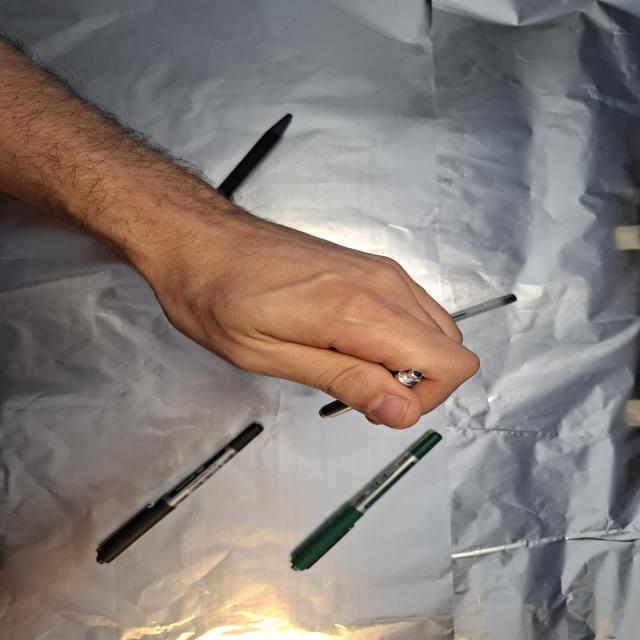glove_off: (138, 209, 484, 431)
